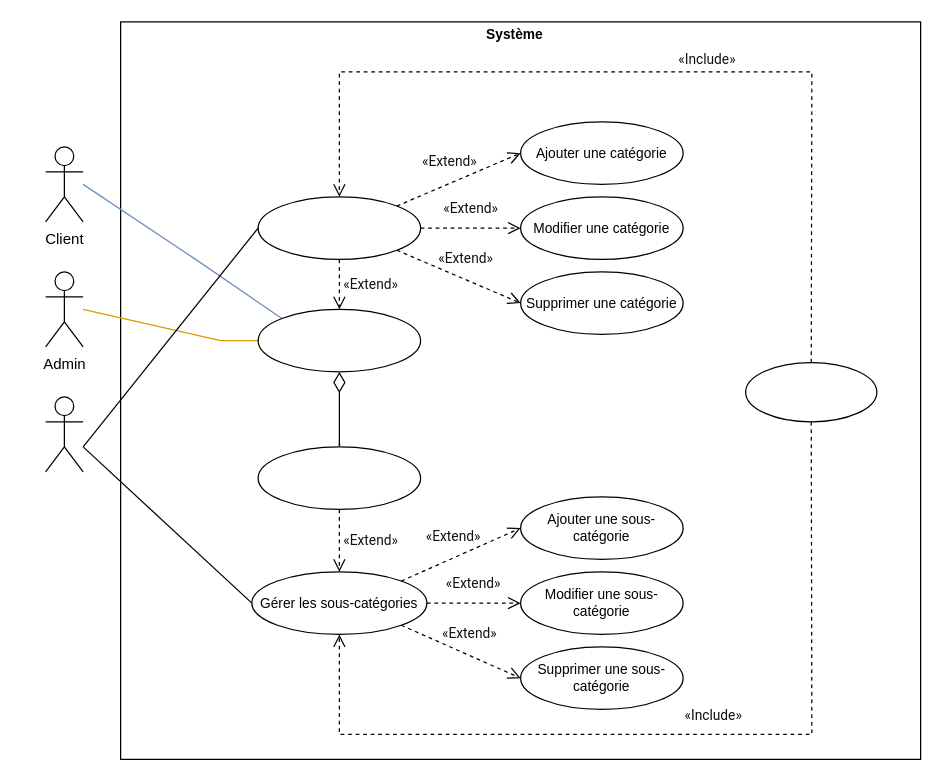
Some shapes in this 943 by 781 pixel diagram are drawn without their labels. Each missing label, with the centre of its shape:
"Consulter listes des catégories" belongs at point (339, 340).
"Consulter listes des sous-catégories" belongs at point (339, 477).
"Gérer les catégories" belongs at point (339, 227).
"S'authentifier" belongs at point (810, 391).
"Super-admin" belongs at point (63, 434).
